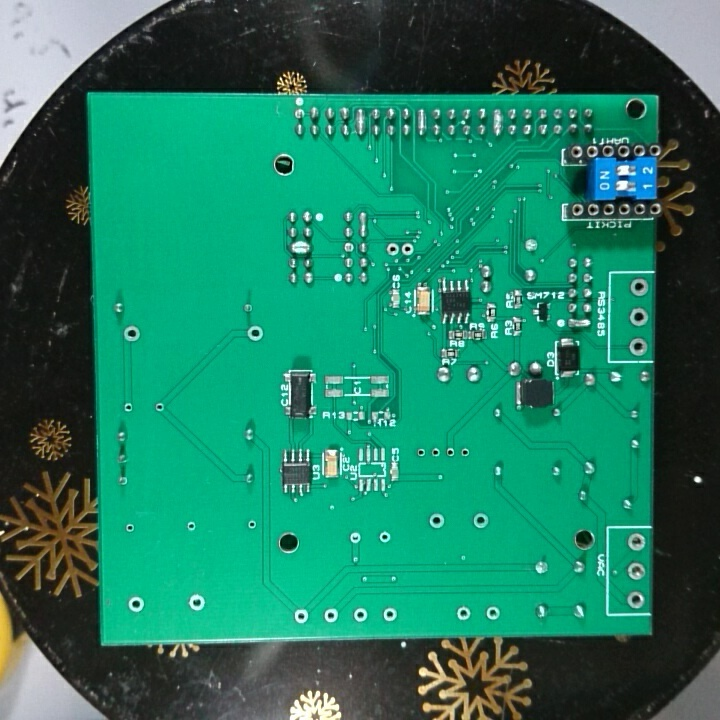F: (243, 322, 267, 348), (627, 275, 651, 300), (627, 304, 651, 329), (530, 555, 554, 580), (469, 510, 494, 534), (120, 323, 144, 347), (626, 335, 651, 358), (624, 531, 647, 556), (124, 594, 148, 617), (184, 592, 210, 613), (623, 587, 646, 609), (380, 604, 403, 626), (290, 605, 314, 626), (482, 601, 504, 623), (624, 560, 647, 581), (426, 511, 448, 532), (321, 605, 342, 626), (522, 235, 541, 258), (397, 238, 417, 259), (351, 605, 370, 626), (346, 528, 365, 548), (113, 472, 133, 491), (453, 603, 471, 624), (376, 527, 393, 549), (384, 239, 400, 262), (457, 444, 476, 463), (441, 444, 459, 464), (152, 398, 170, 418), (243, 515, 261, 535), (428, 443, 443, 466), (239, 299, 257, 318), (120, 398, 137, 417), (413, 444, 429, 461), (184, 518, 200, 535), (122, 520, 137, 538), (292, 106, 307, 122), (341, 240, 356, 255)
P: (354, 104, 370, 142), (414, 103, 429, 139), (287, 238, 314, 256), (490, 105, 504, 139), (566, 316, 593, 332), (358, 209, 371, 241)
